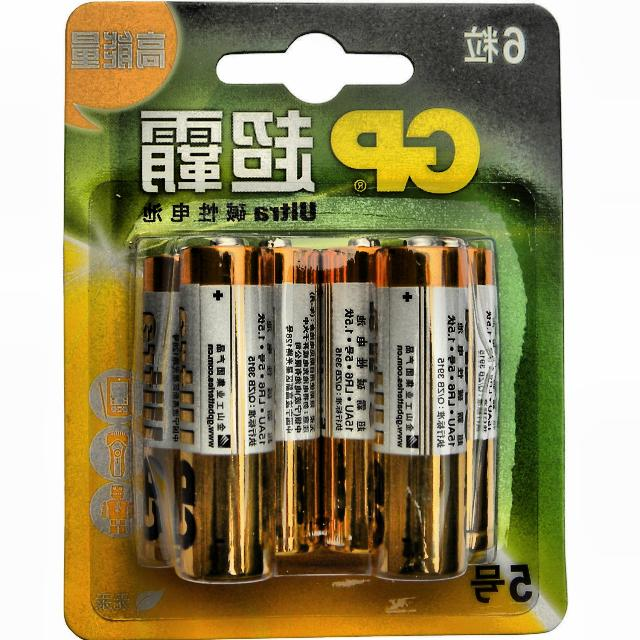Non-Valuable Waste - Batteries: (136, 236, 499, 583)
